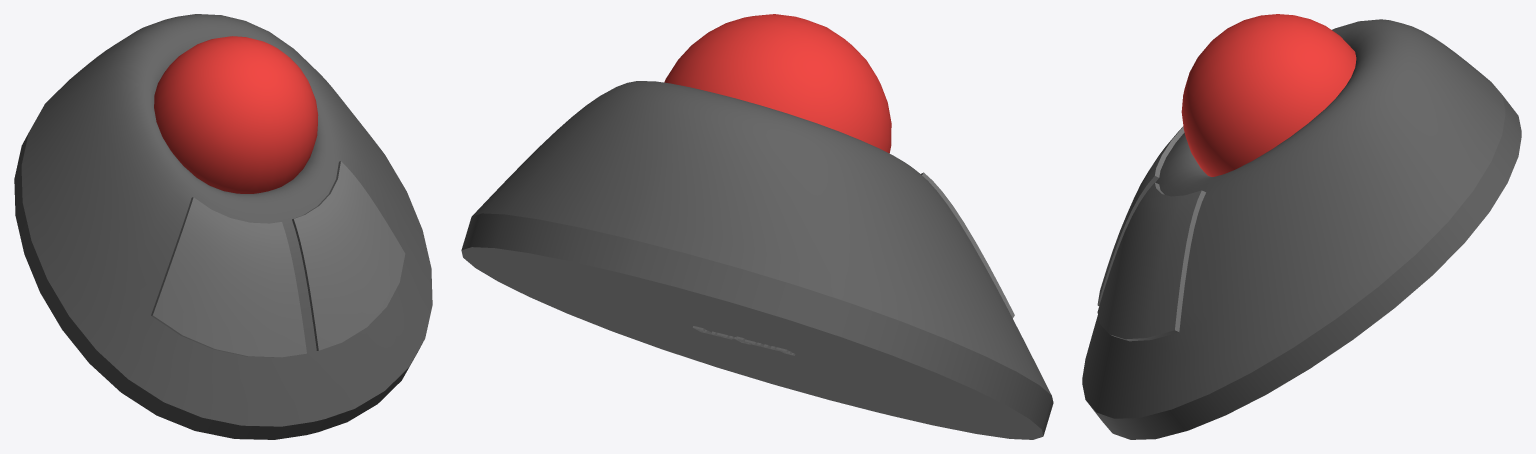
File: trackball.fbx
3 renders of one model, left to right at view 1: azimuth 30°, elevation 25°; view 2: azimuth 150°, elevation 25°; view 3: azimuth 270°, elevation 25°, orthographic. The views are drawn at different scales.
Visible parts, largest first — view 1: Cube.930; view 2: Cube.930; view 3: Cube.930.
Part boxes in pixels (x1,y1,x2,y2): Cube.930: (14, 14, 432, 439); Cube.930: (461, 14, 1053, 439); Cube.930: (1082, 14, 1521, 439).
Bounding box in the file's own units: 229 × 202 × 212.
1 material, 1 textured.
